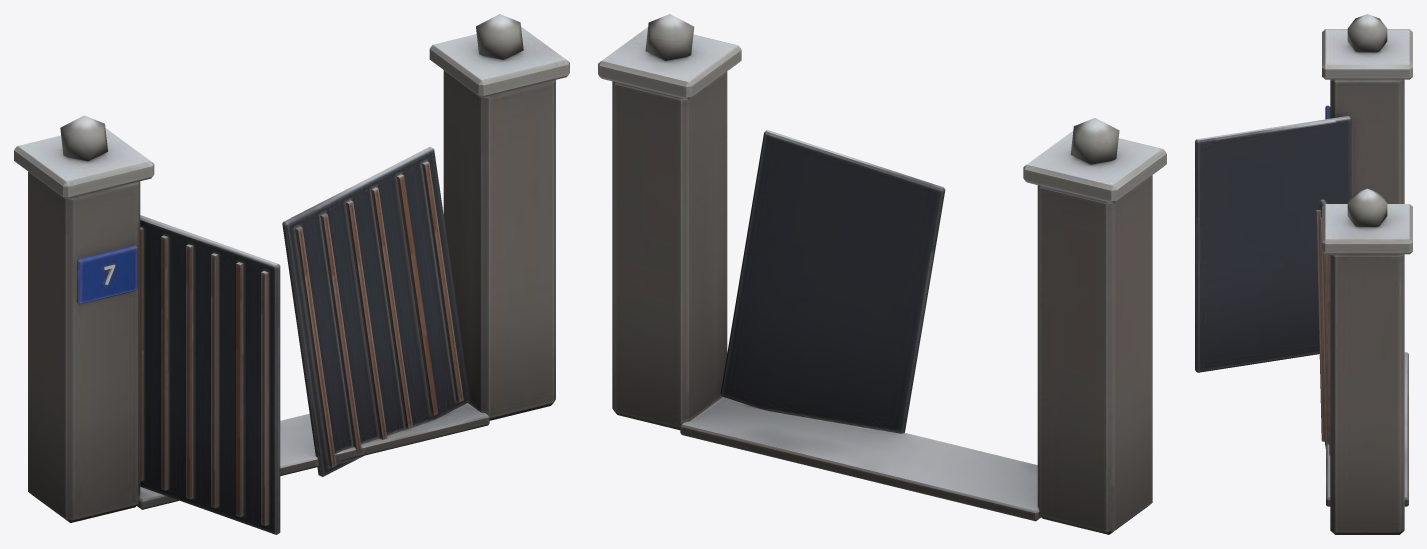
Rendered from bld_wall_gate.glb.
The picture shows the model from 3 angles, left to right: view 1: azimuth 30°, elevation 25°; view 2: azimuth 150°, elevation 25°; view 3: azimuth 270°, elevation 25°; orthographic projection. The views are drawn at different scales.
Parts seen in each view (by area): view 1: bld_wall_gate; view 2: bld_wall_gate; view 3: bld_wall_gate.
Part boxes in pixels (x1,y1,x2,y2): bld_wall_gate: (14,14,569,534); bld_wall_gate: (598,14,1166,534); bld_wall_gate: (1195,14,1412,534).
Size of the model in its own units: 3.05 by 2.28 by 1.32.
Materials: 1 (1 with a texture image).
